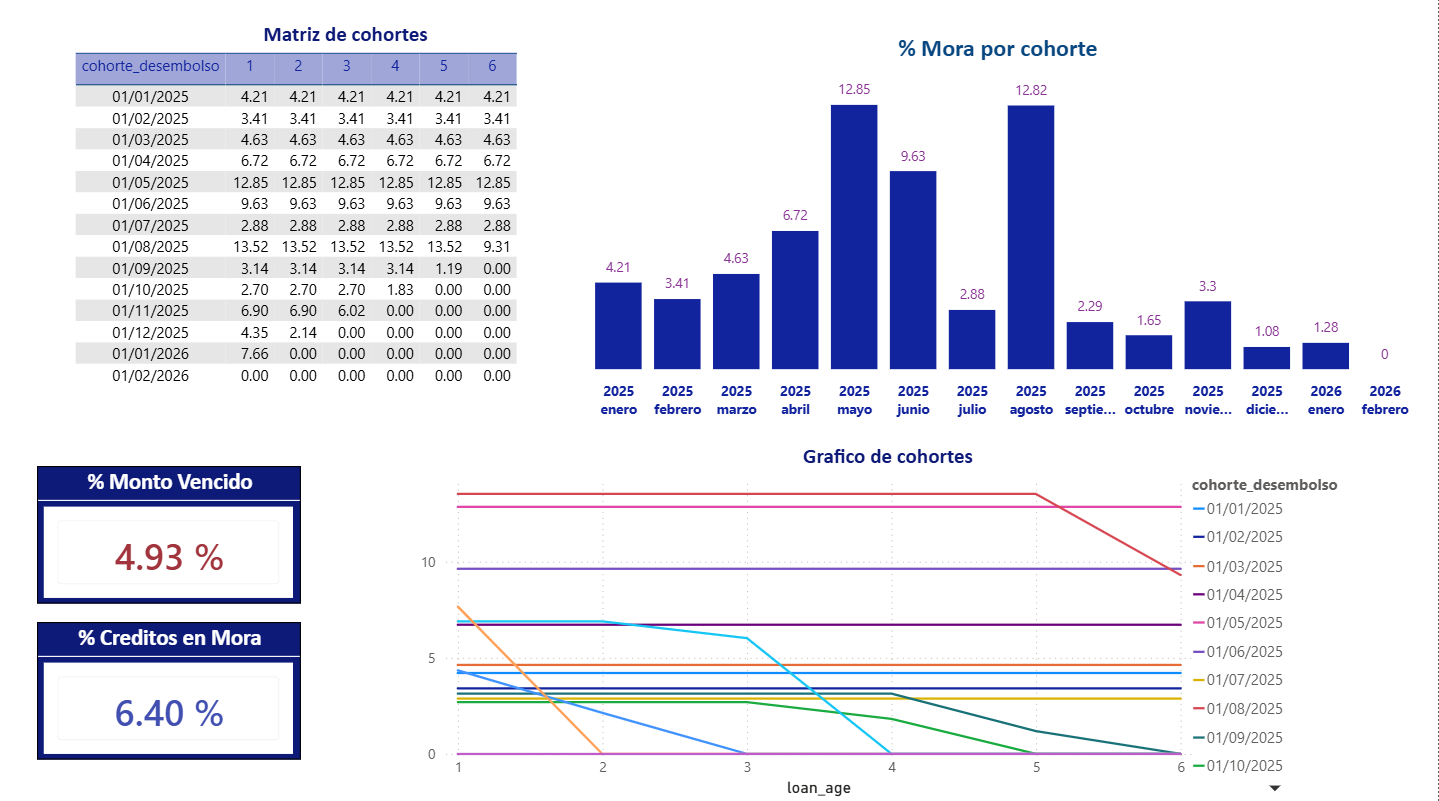

The dashboard page shown, as its layout file describes it:
{"tool":"powerbi","page":{"name":"Vintage Analysis","canvas":[1280,720],"ordinal":1},"visuals":[{"type":"pivotTable","title":"Matriz de cohortes","fields":{"Rows":["pbi_vintage_matrix.cohorte_desembolso"],"Columns":["pbi_vintage_matrix.loan_age"],"Values":["Sum(pbi_vintage_matrix.pct_monto_vencido)"]},"box":[67,27.7,488.6,360],"z":0},{"type":"columnChart","title":"% Mora por cohorte","fields":{"Category":["pbi_mora_cohorte.cohorte_desembolso.Variación.Jerarquía de fechas.Año","pbi_mora_cohorte.cohorte_desembolso.Variación.Jerarquía de fechas.Mes"],"Y":["Sum(pbi_mora_cohorte.pct_mora)"]},"box":[499.9,38.5,780.1,349.1],"z":1},{"type":"cardVisual","title":"% Monto Vencido","fields":{"Data":["metricas 1.% Monto Vencido"]},"box":[38.5,421.9,233.7,122.4],"z":2},{"type":"cardVisual","title":"% Creditos en Mora","fields":{"Data":["metricas 1.% Créditos con Mora"]},"box":[38.5,560.6,233.7,122.4],"z":3},{"type":"lineChart","title":"Grafico de cohortes","fields":{"Category":["pbi_vintage_matrix.loan_age"],"Y":["Sum(pbi_vintage_matrix.pct_monto_vencido)"],"Series":["pbi_vintage_matrix.cohorte_desembolso"]},"box":[373.4,401.7,838.8,318.7],"z":4}]}

Visuals, with their boxes in screenshot pixels (x1, y1, x2, y2), scaled from the page's 1280x720 canvas onto the 1439x801 screenshot:
"Matriz de cohortes" pivotTable: (75,31,625,431)
"% Mora por cohorte" columnChart: (562,43,1438,431)
"% Monto Vencido" cardVisual: (43,469,306,606)
"% Creditos en Mora" cardVisual: (43,624,306,760)
"Grafico de cohortes" lineChart: (420,447,1363,800)
